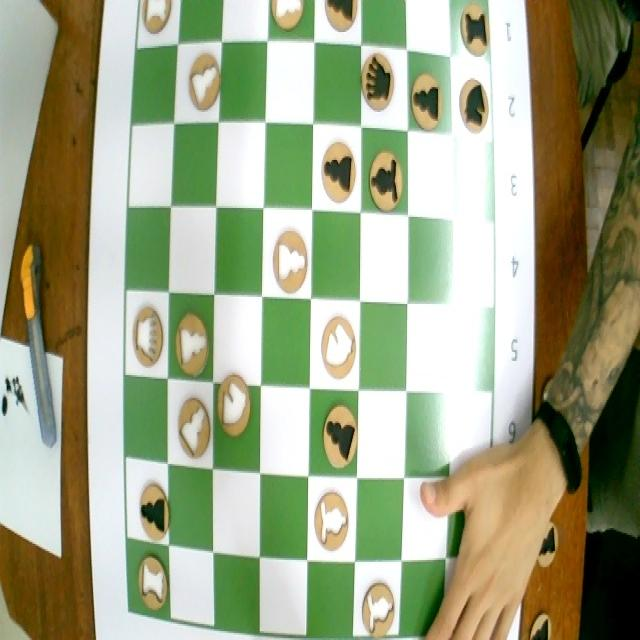chess-pieces: (410, 48, 451, 128), (173, 387, 213, 465), (212, 372, 256, 442), (170, 300, 211, 375), (126, 292, 166, 368), (268, 226, 310, 298), (317, 314, 359, 383), (317, 132, 357, 202), (316, 404, 358, 470), (362, 49, 399, 122), (365, 145, 404, 214), (186, 44, 219, 123), (312, 488, 350, 553), (457, 68, 490, 139), (358, 576, 397, 635), (136, 550, 170, 613), (138, 480, 172, 541), (458, 0, 490, 59), (140, 0, 178, 41), (321, 0, 359, 41), (269, 0, 305, 35)
